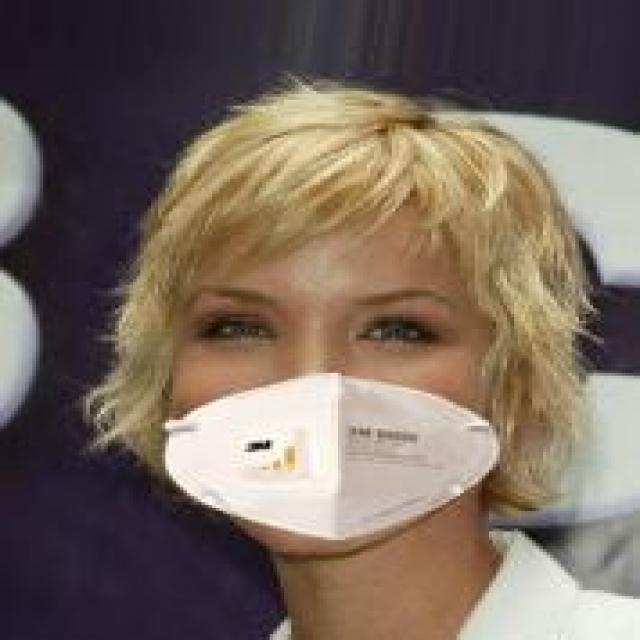mask: (126, 82, 564, 567)
